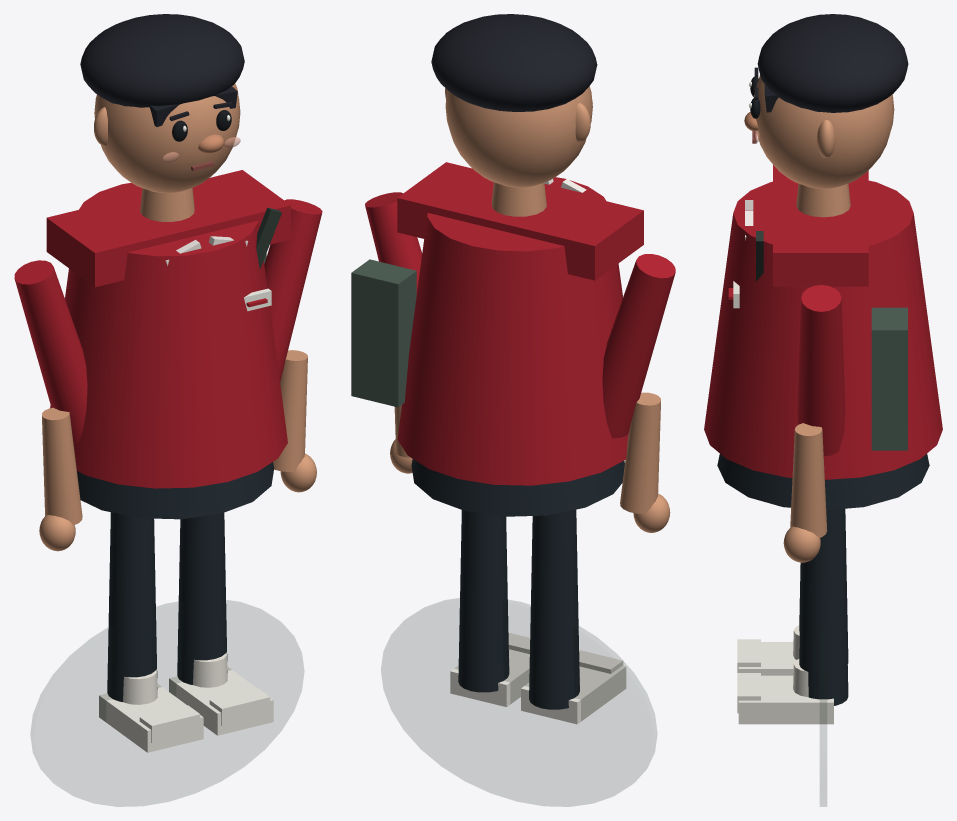
The model's file is player_male_red.glb.
3 renders of one model, left to right at view 1: azimuth 30°, elevation 25°; view 2: azimuth 150°, elevation 25°; view 3: azimuth 270°, elevation 25°, orthographic. The views are drawn at different scales.
Parts seen in each view (by area): view 1: torso, contact_shadow, hair_cap, shoulder_line, head, leg_-0.075, leg_0.075, upper_arm_-0.235, hip, upper_arm_0.235, forearm_-0.235, shoe_-0.075 (+10 smaller); view 2: torso, contact_shadow, hair_cap, shoulder_line, leg_-0.075, head, leg_0.075, shoulder_bag, upper_arm_-0.235, hip, forearm_-0.235, upper_arm_0.235 (+5 smaller); view 3: torso, hair_cap, head, shoulder_line, leg_0.075, upper_arm_0.235, shoulder_bag, hip, forearm_0.235, shoe_0.075, neck, shoe_-0.075 (+6 smaller).
Part boxes in pixels (box(x1,y1,x2,y2)): torso: box(50, 183, 287, 488); contact_shadow: box(31, 600, 303, 806); hair_cap: box(80, 14, 244, 107); shoulder_line: box(46, 170, 290, 287); head: box(94, 84, 240, 193); leg_-0.075: box(107, 512, 157, 701); leg_0.075: box(177, 513, 227, 684); upper_arm_-0.235: box(14, 260, 87, 443); hip: box(77, 462, 274, 519); upper_arm_0.235: box(264, 199, 322, 381); forearm_-0.235: box(42, 407, 82, 525); shoe_-0.075: box(99, 683, 203, 752); torso: box(397, 177, 628, 485); contact_shadow: box(381, 598, 656, 806); hair_cap: box(431, 14, 597, 111); shoulder_line: box(397, 162, 643, 280); leg_-0.075: box(529, 509, 579, 709); head: box(445, 86, 592, 187); leg_0.075: box(458, 510, 509, 692); shoulder_bag: box(351, 259, 416, 407); upper_arm_-0.235: box(602, 254, 675, 438); hip: box(411, 459, 624, 516); forearm_-0.235: box(620, 392, 660, 513); upper_arm_0.235: box(365, 192, 422, 293); torso: box(704, 180, 942, 479); hair_cap: box(757, 14, 908, 112); head: box(753, 75, 894, 188); shoulder_line: box(773, 165, 868, 286); leg_0.075: box(799, 508, 848, 705); upper_arm_0.235: box(797, 285, 845, 456); shoulder_bag: box(871, 307, 907, 450); hip: box(717, 454, 929, 510); forearm_0.235: box(790, 423, 827, 537); shoe_0.075: box(738, 675, 833, 724); neck: box(796, 184, 850, 217); shoe_-0.075: box(738, 642, 796, 675).
Bounding box in the file's own units: 0.675 × 1.64 × 0.468.
